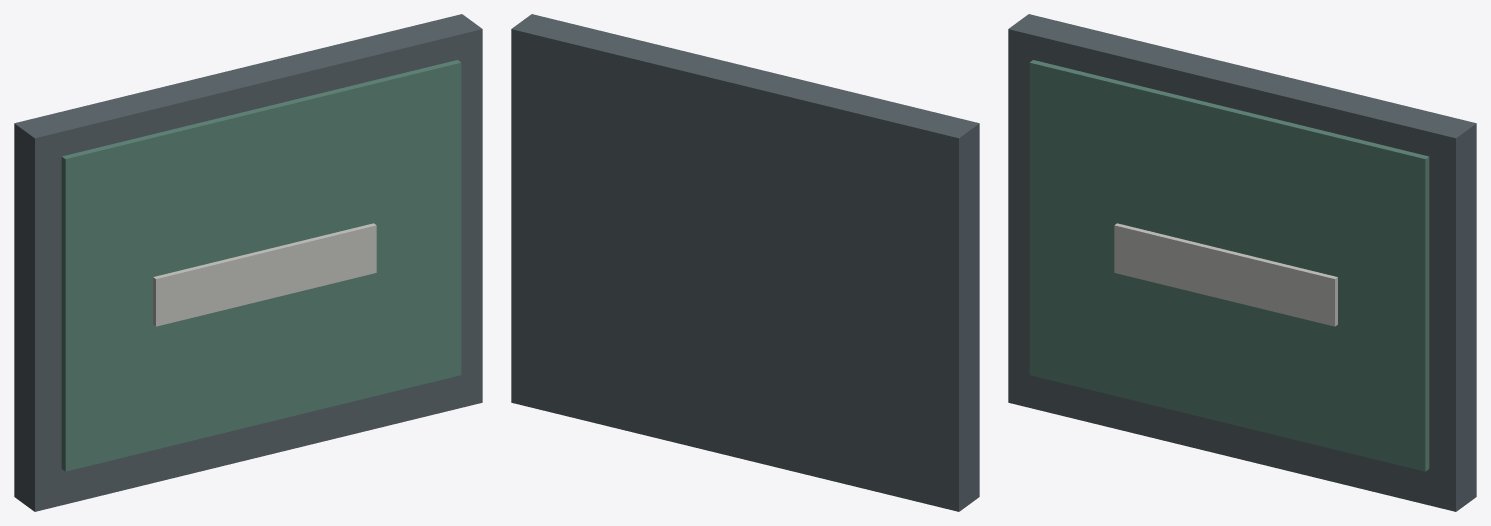
The model's file is BSM-010.glb.
3 views of the same model, side by side, from view 1: azimuth 30°, elevation 25°; view 2: azimuth 150°, elevation 25°; view 3: azimuth 330°, elevation 25° (orthographic).
Visible parts, largest first — view 1: 001_Sign_face, 000_Back_plate, 002_White_symbol; view 2: 000_Back_plate; view 3: 001_Sign_face, 000_Back_plate, 002_White_symbol.
Part boxes in pixels (box(x1,y1,x2,y2)): 001_Sign_face: box(61, 60, 461, 471); 000_Back_plate: box(14, 14, 482, 511); 002_White_symbol: box(153, 223, 376, 326); 000_Back_plate: box(511, 14, 979, 511); 001_Sign_face: box(1029, 60, 1429, 471); 000_Back_plate: box(1008, 14, 1476, 511); 002_White_symbol: box(1114, 223, 1337, 326).
Size of the model in its own units: 0.69 by 0.55 by 0.075.
